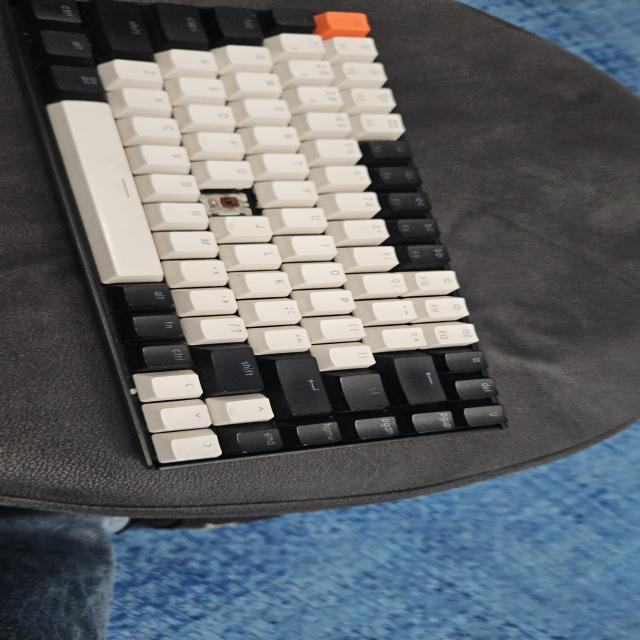C: (208, 191, 253, 212)
